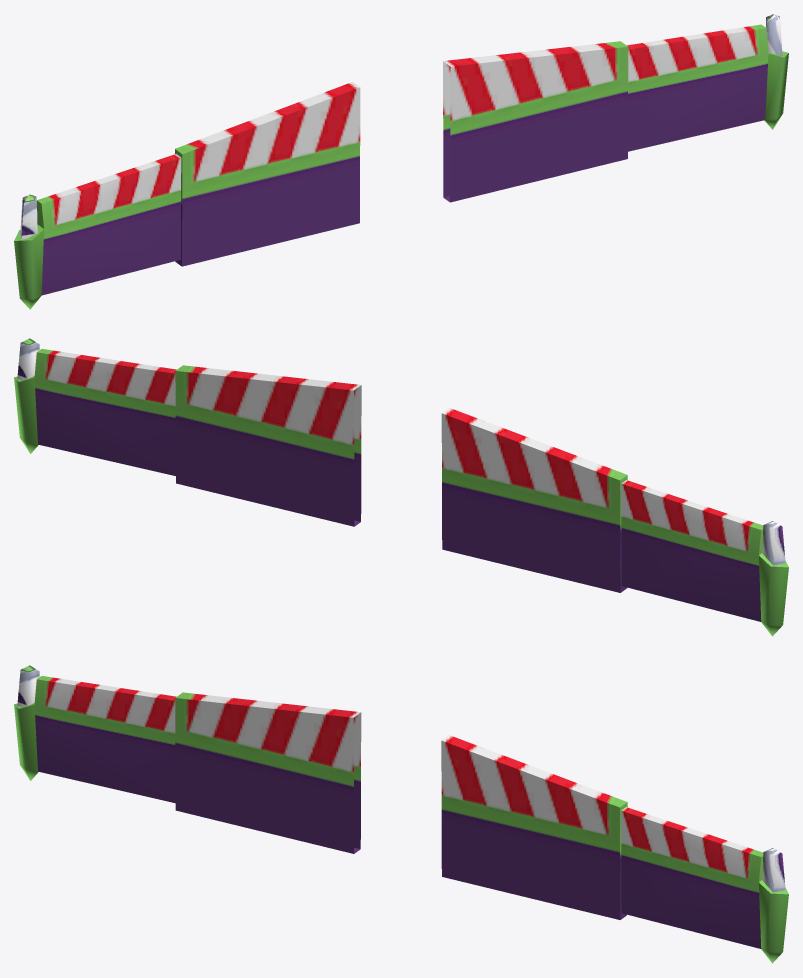
Rendered from buzzAlaDer1.obj.
3 views of the same model, one above another, from view 1: azimuth 30°, elevation 25°; view 2: azimuth 150°, elevation 25°; view 3: azimuth 330°, elevation 25° (orthographic).
Visible parts, largest first — view 1: buzzlightyLeftWing1_buzzlighty.015, buzzlightyRightWing1_buzzlighty.008, buzzlightyRightWing2_buzzlighty.003, buzzlightyLeftWing2_buzzlighty.014; view 2: buzzlightyLeftWing1_buzzlighty.015, buzzlightyRightWing1_buzzlighty.008, buzzlightyRightWing2_buzzlighty.003, buzzlightyLeftWing2_buzzlighty.014; view 3: buzzlightyRightWing1_buzzlighty.008, buzzlightyLeftWing1_buzzlighty.015, buzzlightyLeftWing2_buzzlighty.014, buzzlightyRightWing2_buzzlighty.003.
Boxes of the visible parts, x1,y1,x2,y2 form: buzzlightyLeftWing1_buzzlighty.015: (443, 41, 628, 202); buzzlightyRightWing1_buzzlighty.008: (175, 82, 360, 266); buzzlightyRightWing2_buzzlighty.003: (14, 154, 181, 309); buzzlightyLeftWing2_buzzlighty.014: (627, 14, 788, 151); buzzlightyLeftWing1_buzzlighty.015: (175, 365, 361, 526); buzzlightyRightWing1_buzzlighty.008: (441, 408, 627, 592); buzzlightyRightWing2_buzzlighty.003: (621, 480, 788, 636); buzzlightyLeftWing2_buzzlighty.014: (14, 338, 176, 475); buzzlightyRightWing1_buzzlighty.008: (175, 692, 361, 853); buzzlightyLeftWing1_buzzlighty.015: (441, 735, 627, 919); buzzlightyLeftWing2_buzzlighty.014: (621, 807, 788, 963); buzzlightyRightWing2_buzzlighty.003: (14, 665, 176, 803).
Bounding box in the file's own units: 1.15 × 0.2063 × 0.0364.
Materials: 4 (4 with a texture image).
